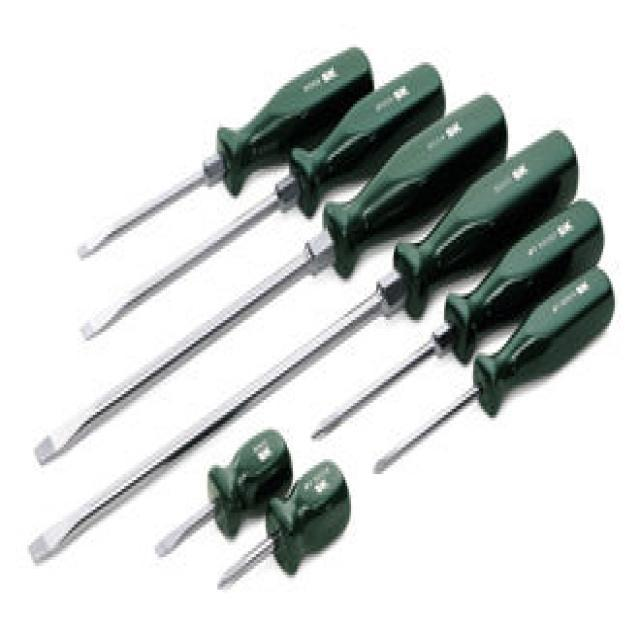screwdriver: (21, 121, 582, 563), (31, 89, 512, 471), (66, 57, 451, 346), (310, 196, 606, 448), (59, 38, 374, 264), (370, 261, 614, 483), (208, 449, 354, 597), (152, 426, 292, 570)
